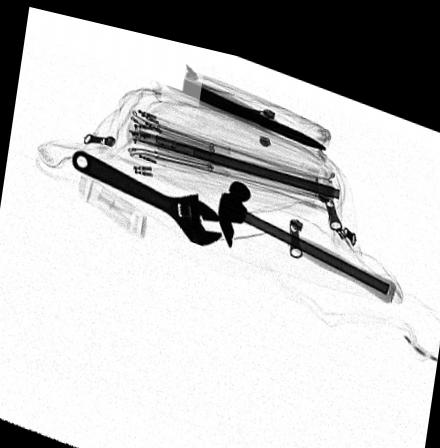Hammer: (220, 167, 400, 286)
Pliers: (159, 59, 334, 141)
Wrench: (70, 145, 225, 237)
